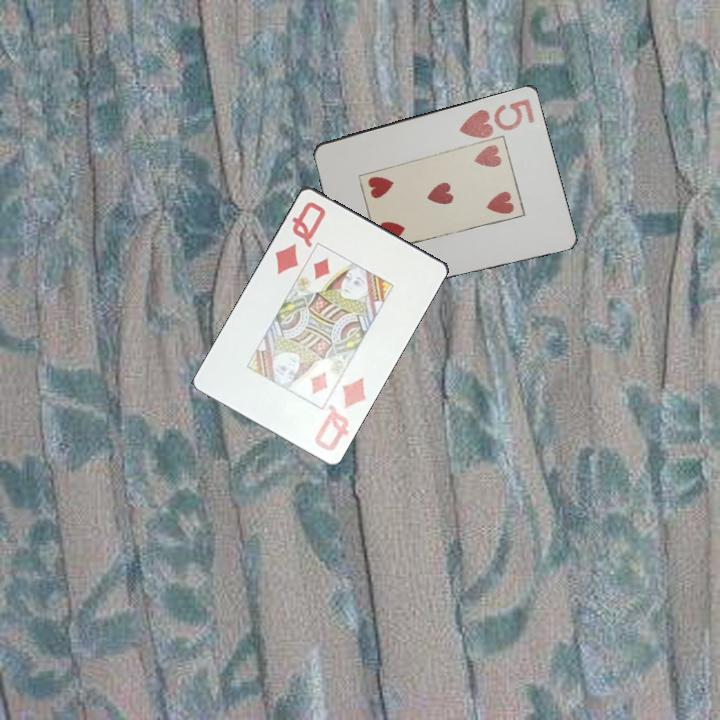5h: (456, 95, 538, 141)
Qd: (311, 373, 369, 454), (271, 198, 329, 277)
